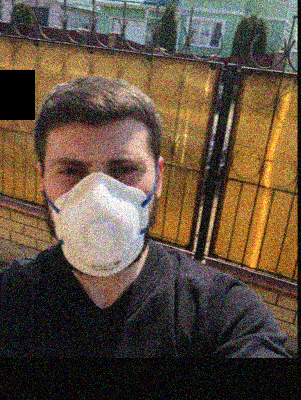with_mask: (43, 138, 154, 278)
